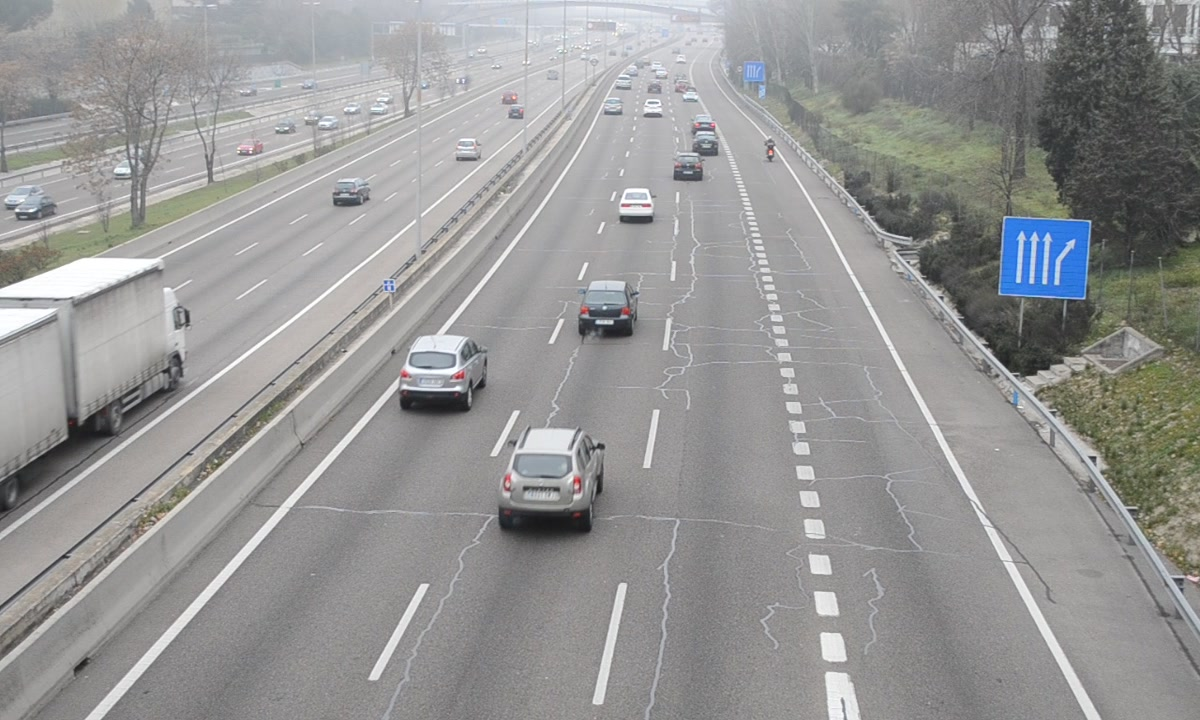car: (501, 428, 601, 517), (401, 336, 488, 398), (579, 280, 638, 333), (619, 186, 654, 218), (673, 152, 703, 181), (693, 131, 721, 155)
motorcycle: (764, 136, 778, 163)
